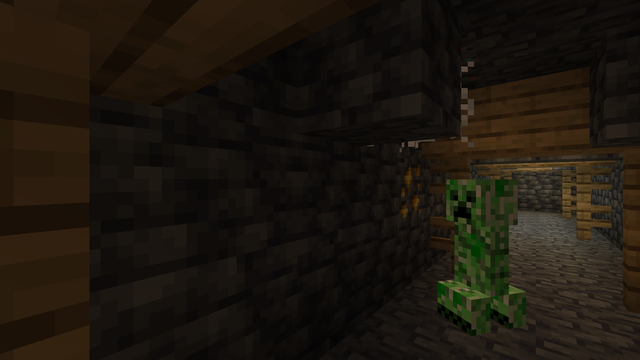creepers: (445, 172, 513, 341)
